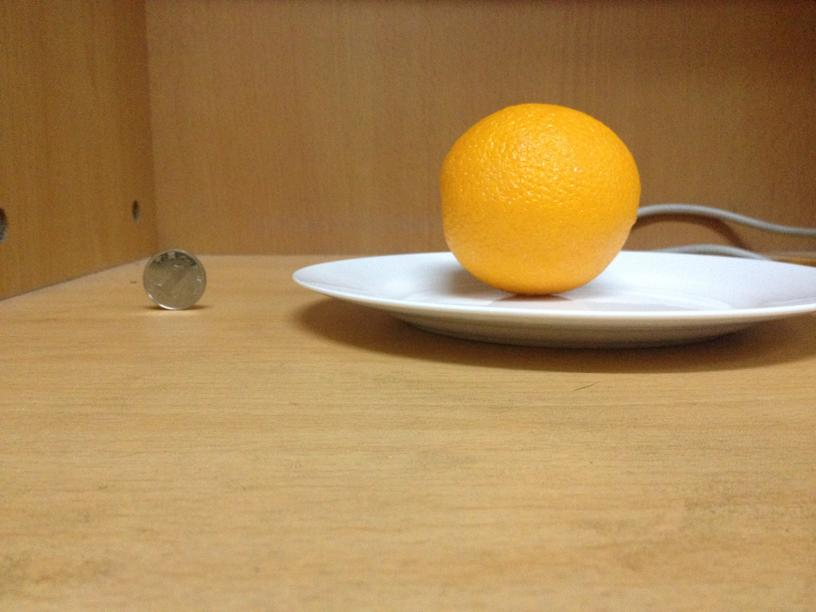coin: (140, 248, 207, 309)
orange: (435, 101, 646, 294)
